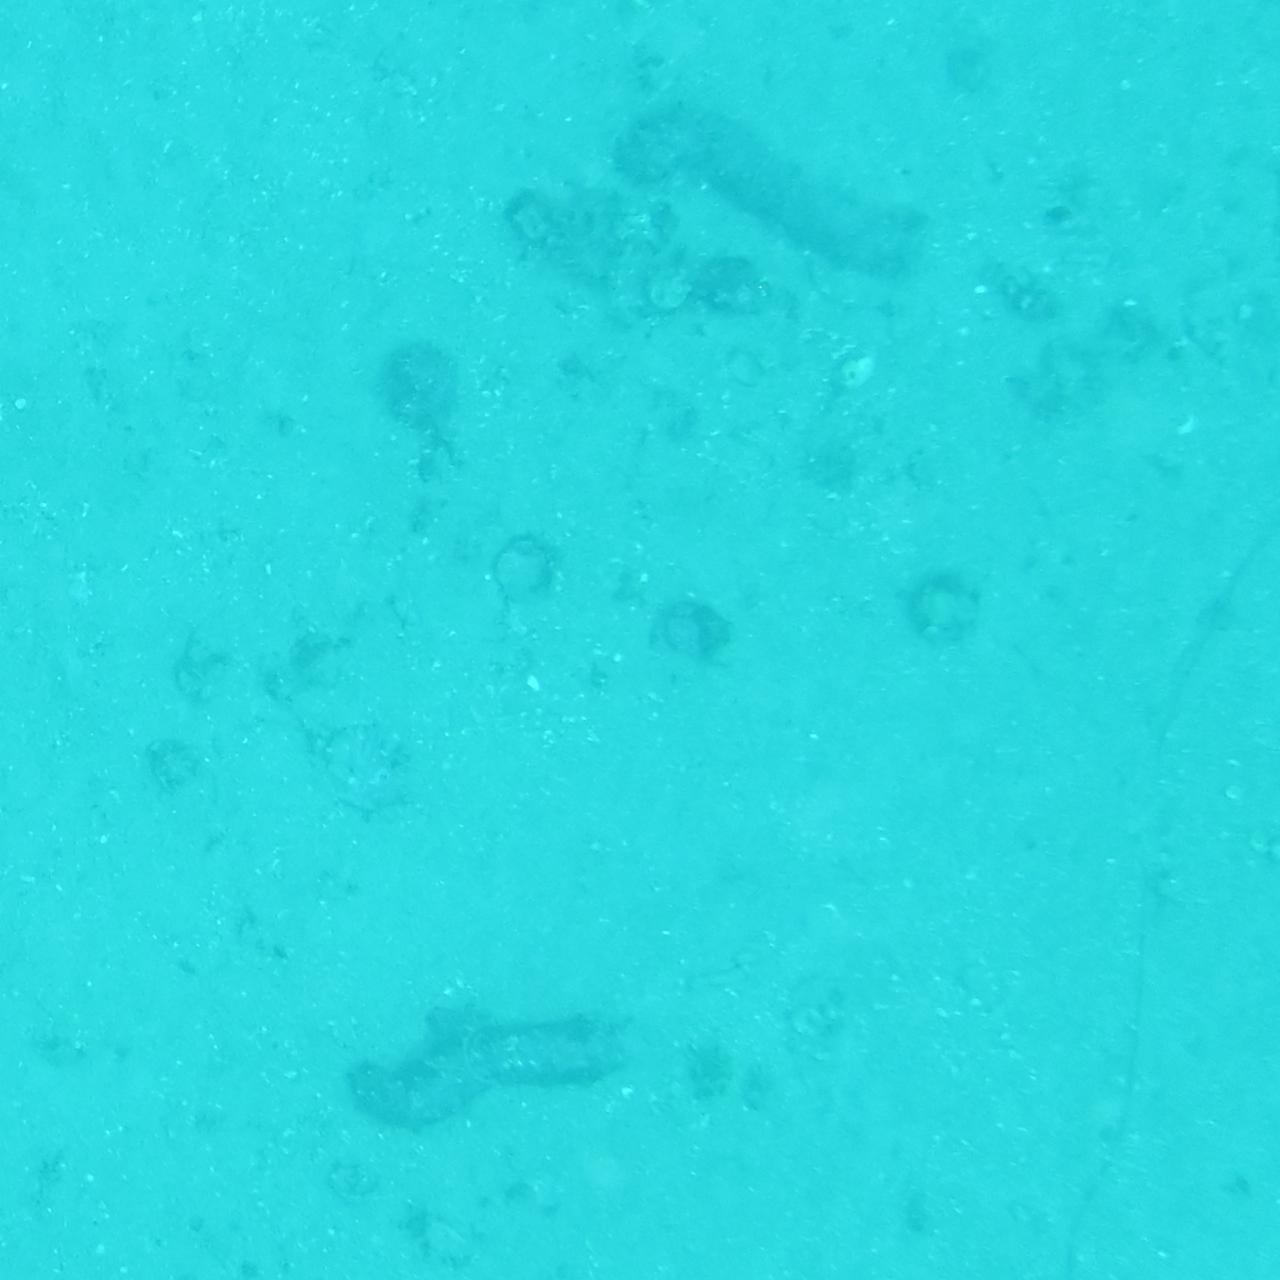Holothuria tubulosa: (636, 89, 933, 305), (345, 1021, 647, 1145)
